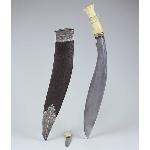Golok: (80, 1, 110, 146)
